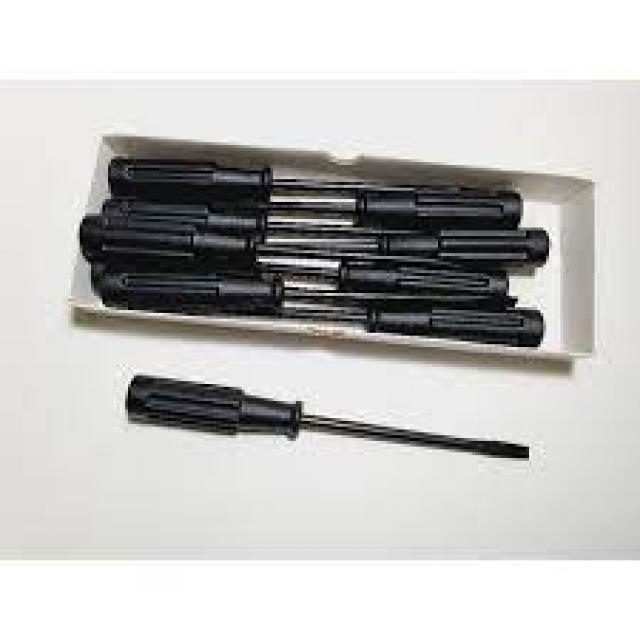screwdriver: (122, 370, 544, 461), (78, 216, 454, 276), (200, 294, 559, 348), (208, 188, 534, 230), (106, 152, 402, 195), (97, 268, 404, 304), (259, 229, 552, 266)
